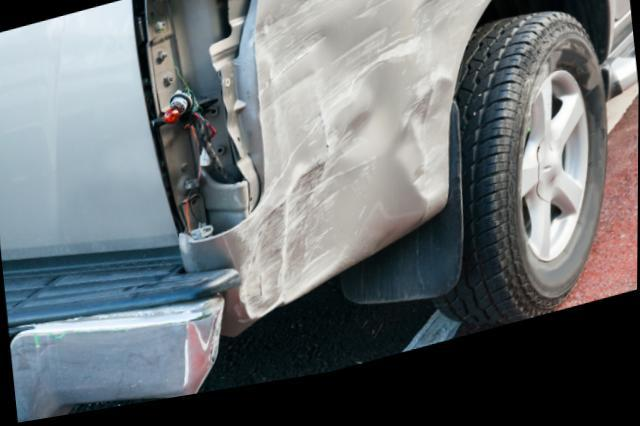dent: (239, 0, 501, 324)
no part: (135, 0, 263, 251)
